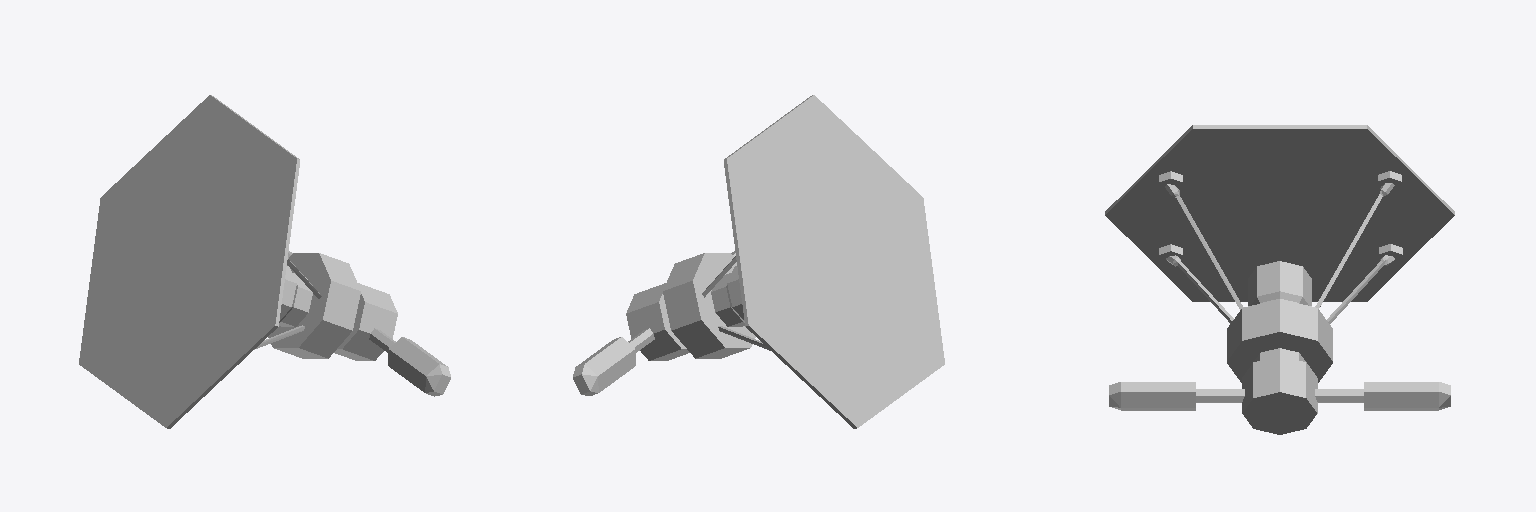
The model's file is stg300_MotReflector_p1_16.obj.
3 views of the same model, side by side, from view 1: azimuth 30°, elevation 25°; view 2: azimuth 150°, elevation 25°; view 3: azimuth 270°, elevation 25° (orthographic).
Visible parts, largest first — view 1: polygon3, polygon2, polygon1; view 2: polygon3, polygon2, polygon1; view 3: polygon2, polygon3, polygon1, polygon0.
Boxes of the visible parts, x1,y1,x2,y2 form: polygon3: [84, 103, 291, 419]; polygon2: [79, 95, 360, 428]; polygon1: [279, 253, 441, 392]; polygon3: [732, 103, 939, 419]; polygon2: [663, 95, 944, 428]; polygon1: [582, 253, 744, 392]; polygon2: [1105, 125, 1454, 382]; polygon3: [1203, 139, 1356, 291]; polygon1: [1109, 261, 1450, 434]; polygon0: [1109, 382, 1450, 394].
Bounding box in the file's own units: 253 × 235 × 287.